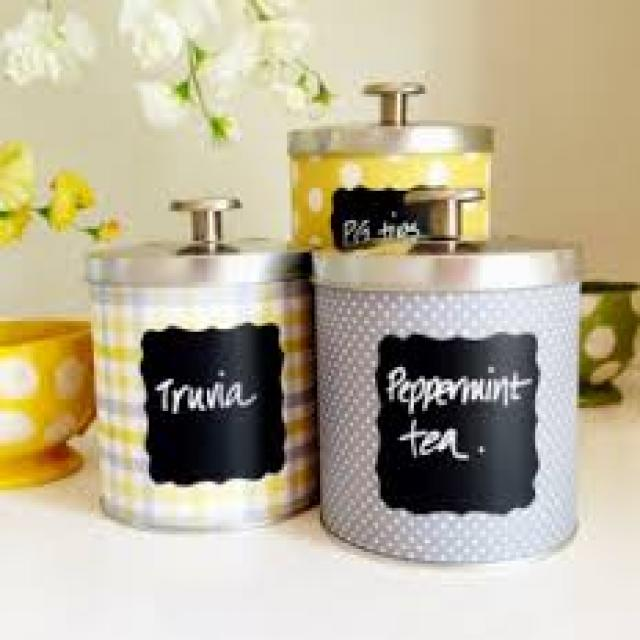organic waste: (116, 0, 243, 56), (3, 9, 88, 88), (188, 56, 235, 150), (262, 50, 328, 106), (201, 32, 265, 88), (121, 76, 185, 120), (246, 15, 300, 64), (42, 173, 88, 226), (0, 168, 36, 212), (248, 0, 292, 21), (0, 137, 30, 167), (0, 205, 30, 234), (85, 217, 116, 238)
